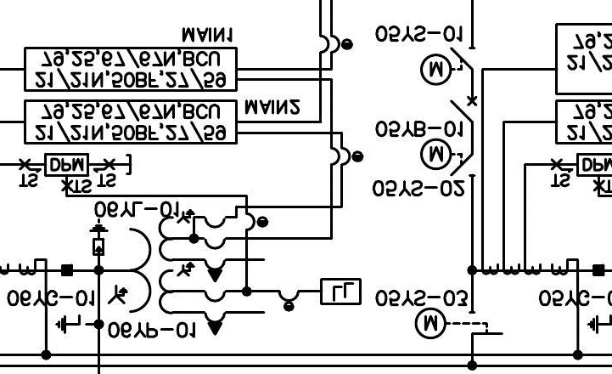115_1way_ds_w_motor: (413, 306, 504, 339), (419, 137, 476, 177), (419, 46, 476, 86)
115_breaker: (449, 95, 478, 122)
115_gs: (54, 313, 89, 335)
115_la: (88, 217, 109, 256)
115_vt_3p: (107, 209, 227, 336)
DPM: (44, 153, 89, 177)
LL: (320, 278, 362, 306)
